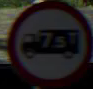Heavy Vehicles: (7, 8, 89, 74)
